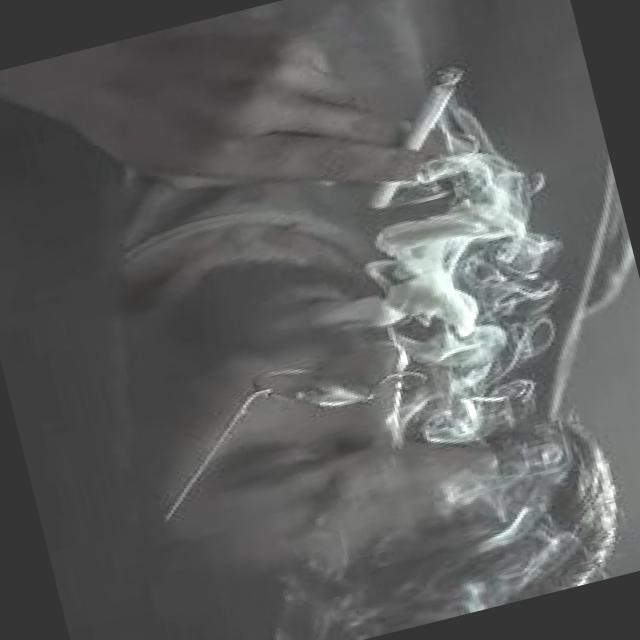cigarette: (333, 54, 501, 216)
